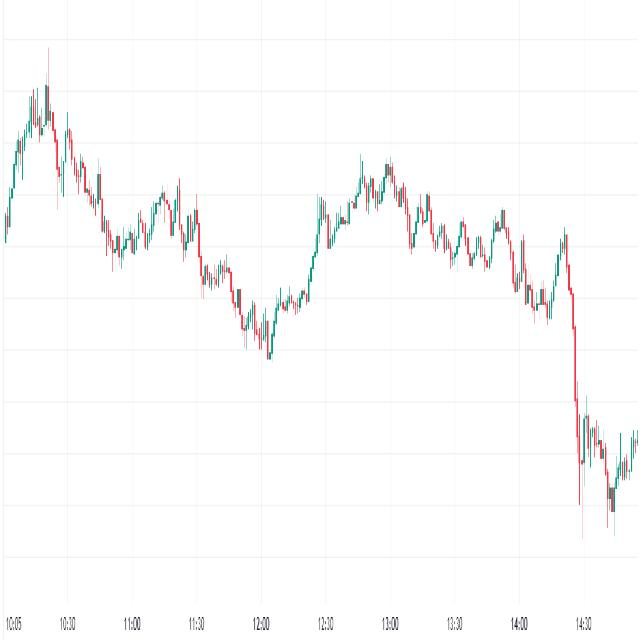Rounding-Bottom: (196, 216, 321, 370)
